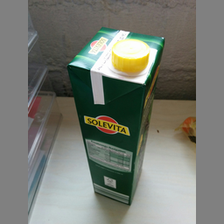juice: (66, 26, 167, 207)
